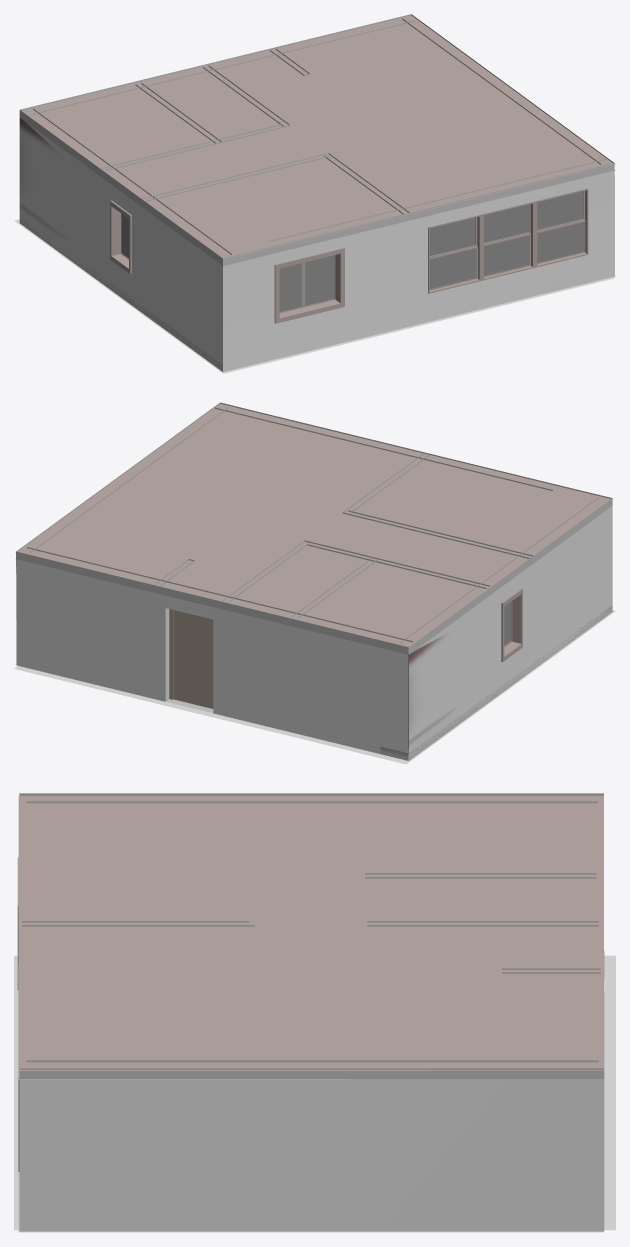
The model's file is appartamento_final.FBX.
The picture shows the model from 3 angles, top to bottom: view 1: azimuth 30°, elevation 25°; view 2: azimuth 150°, elevation 25°; view 3: azimuth 270°, elevation 25°; orthographic projection. The views are drawn at different scales.
Parts seen in each view (by area): view 1: soffitto001, muri, finestra salotto, INFISSO CAMERA DA LETTO, Plane001, INFISSO CAMERA DA LETTO001; view 2: soffitto001, muri, PORTA 002, Plane001, INFISSO CAMERA DA LETTO001; view 3: soffitto001, muri, Plane001, pavimento vero, soffitto.
Boxes of the visible parts, box(x1,y1,x2,y2) form: soffitto001: box(21, 15, 615, 259); muri: box(19, 14, 614, 371); finestra salotto: box(428, 188, 588, 293); INFISSO CAMERA DA LETTO: box(274, 248, 344, 323); Plane001: box(14, 219, 614, 373); INFISSO CAMERA DA LETTO001: box(110, 200, 131, 274); soffitto001: box(15, 403, 610, 647); muri: box(16, 402, 612, 760); PORTA 002: box(169, 609, 213, 708); Plane001: box(14, 610, 615, 764); INFISSO CAMERA DA LETTO001: box(501, 588, 522, 661); soffitto001: box(18, 796, 603, 1070); muri: box(19, 793, 604, 1231); Plane001: box(14, 955, 615, 1230); pavimento vero: box(18, 1172, 603, 1232); soffitto: box(18, 1071, 603, 1079).
Bounding box in the file's own units: 10.07 × 2.94 × 9.26.
